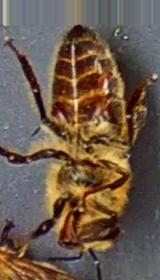varroa_mite: (46, 99, 75, 133), (90, 65, 120, 95)
